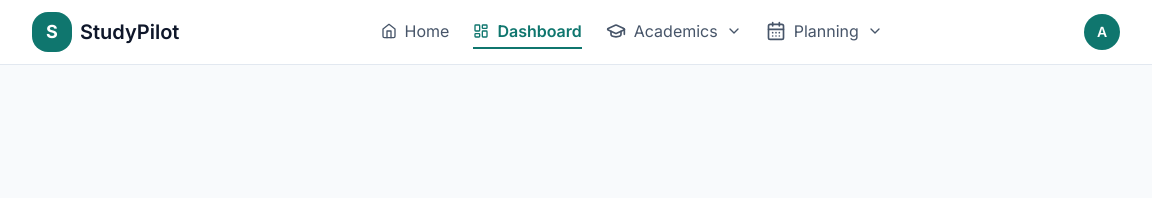
Test case: Header desktop grouped navigation (EP11A) › keeps only one menu open at a time
The image size is (1152, 198).
What coordinates should you click on to do the following:
click the button with aria-label "Academics menu"
I would click on:
 (674, 32)
Its box is [606,15,742,49].
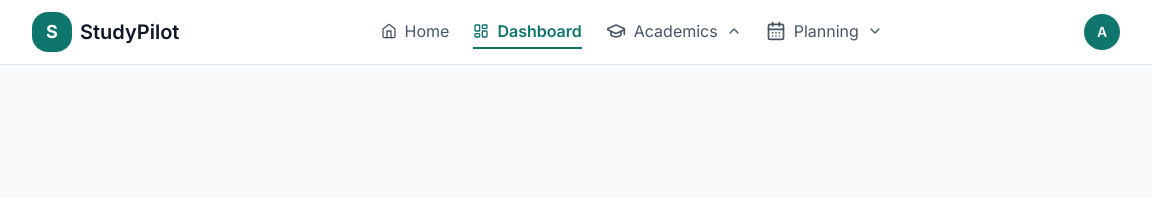
What coordinates should you click on to do the following:
click the button with aria-label "Planning menu"
I would click on:
 (824, 32)
Its box is [766,15,883,49].
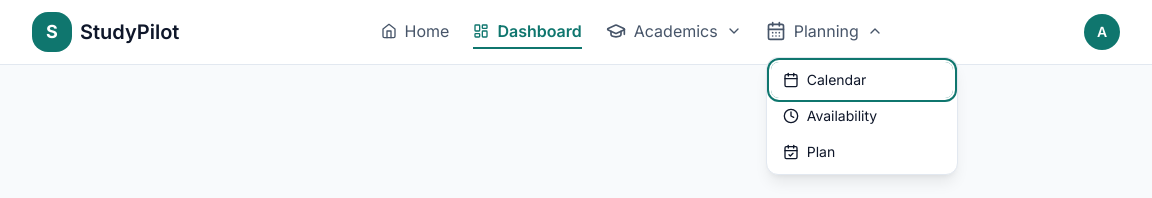
Expected: the button with aria-label "Academics menu" is collapsed, [606,15,742,49]
Expected: the button with aria-label "Planning menu" is expanded, [766,15,883,49]
Expected: the menu named "Planning" is shown, [766,57,958,175]
